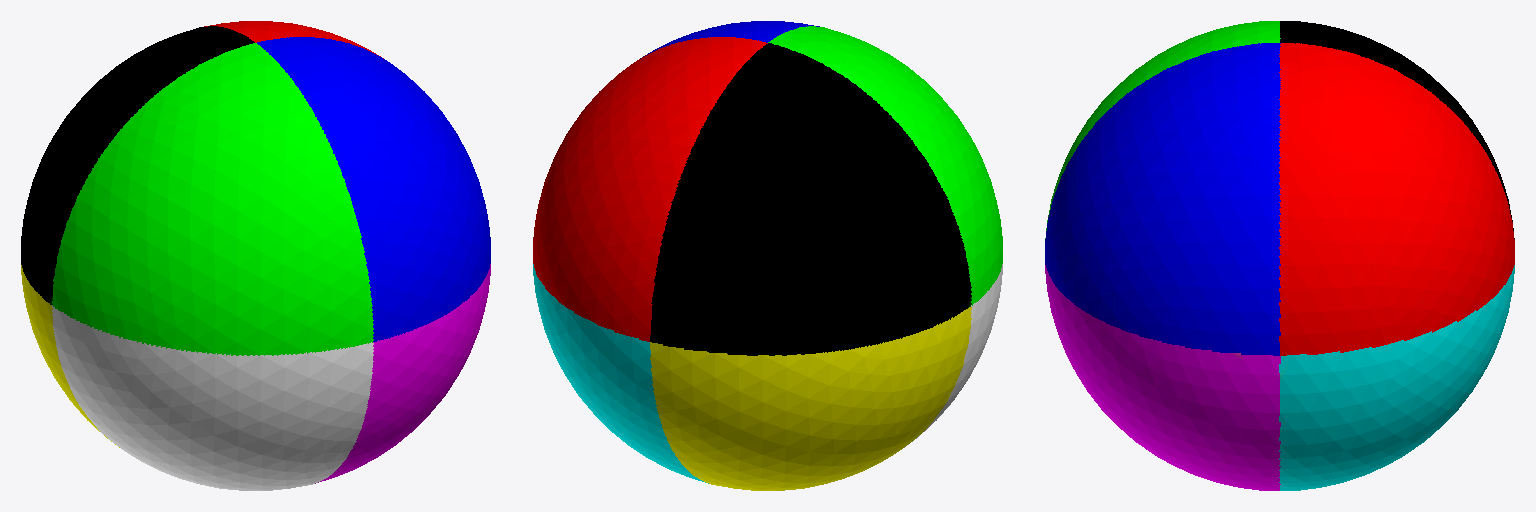
The picture shows the model from 3 angles: view 1: azimuth 30°, elevation 25°; view 2: azimuth 150°, elevation 25°; view 3: azimuth 270°, elevation 25°; orthographic projection.
Visible parts, largest first — view 1: FMO; view 2: FMO; view 3: FMO.
Boxes of the visible parts, x1=… form: FMO: x1=21, y1=21, x2=490, y2=490; FMO: x1=533, y1=21, x2=1002, y2=490; FMO: x1=1045, y1=21, x2=1514, y2=490.
Size of the model in its own units: 2 by 2 by 2.
Materials: 1 (1 with a texture image).